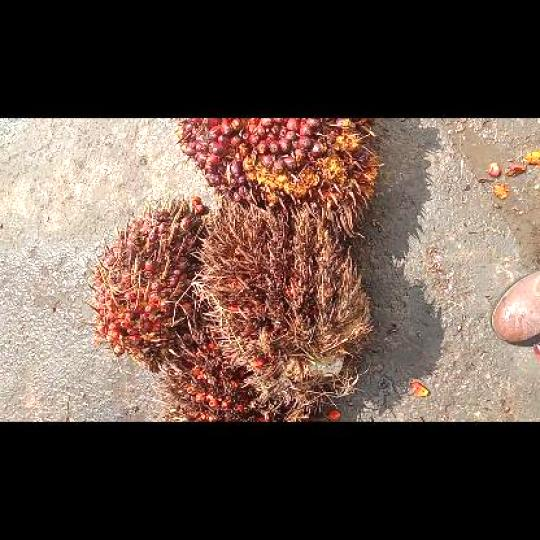masak: (174, 118, 384, 238), (88, 195, 208, 371)
terlalu masak: (190, 193, 371, 420), (151, 330, 275, 420)
